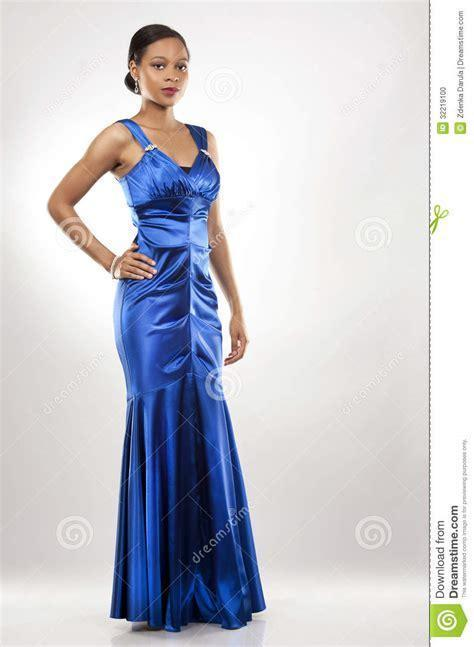dress: (112, 118, 267, 632)
